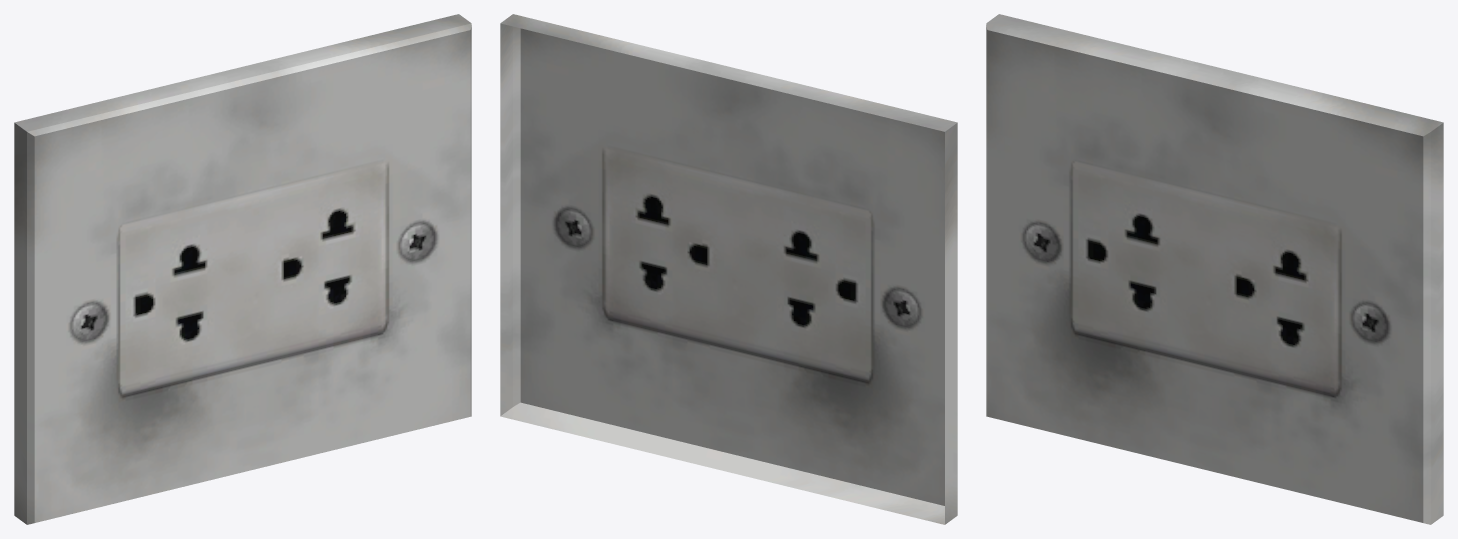
Rendered from plugSocket.FBX.
3 renders of one model, left to right at view 1: azimuth 30°, elevation 25°; view 2: azimuth 150°, elevation 25°; view 3: azimuth 330°, elevation 25°, orthographic.
Visible parts, largest first — view 1: SM_PlugSocket; view 2: SM_PlugSocket; view 3: SM_PlugSocket.
Part boxes in pixels (x1,y1,x2,y2): SM_PlugSocket: (14,14,471,524); SM_PlugSocket: (500,14,957,524); SM_PlugSocket: (986,14,1443,524).
Bounding box in the file's own units: 12.93 × 10.92 × 0.8087.
1 material, 1 textured.
